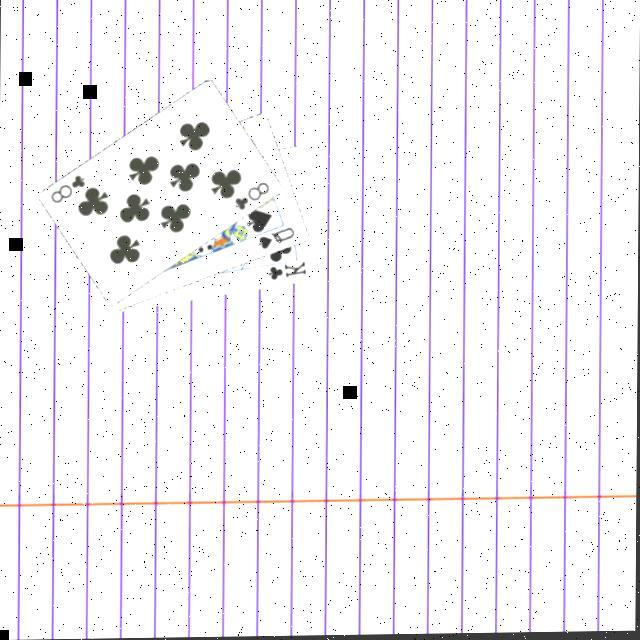8C: (232, 181, 274, 216), (48, 173, 90, 208)
KC: (262, 257, 310, 286)
QS: (256, 227, 299, 256)
